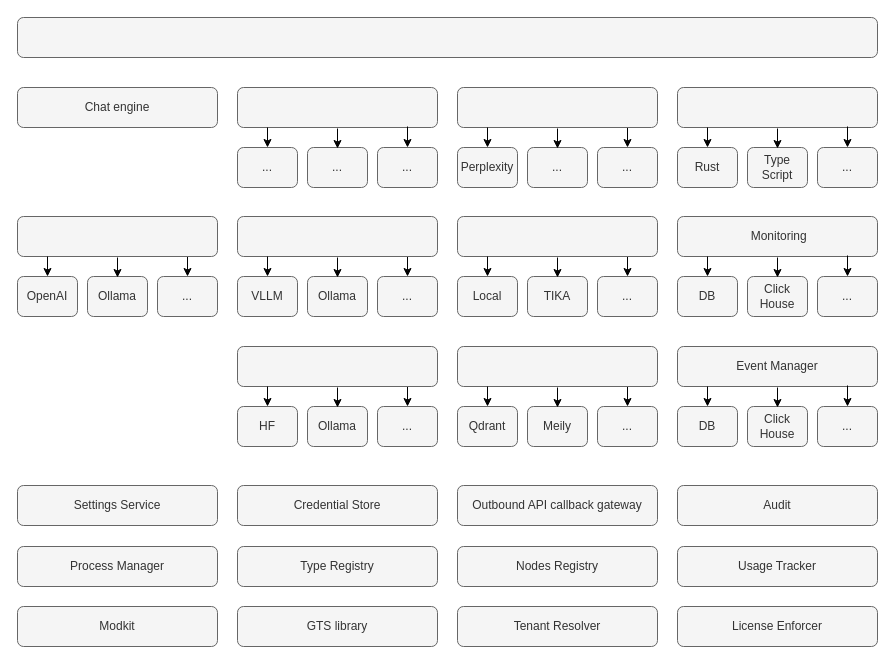
Some shapes in this 895 by 664 pixel diagram are drawn without their labels. Each missing label, with the centre of its shape:
"API ingress" goes at (447,37).
"Cloud Search Gateway" goes at (557,107).
"File Parser Gateway" goes at (557,236).
"LLM gateway (inference, embedding)" goes at (117,236).
"Local LLM downloader" goes at (337,366).
"Local LLM management gateway" goes at (337,236).
"MCP gateway" goes at (337,107).
"RAG" goes at (557,366).
"Scripting engine (FaaS / Worklows)" goes at (777,107).
